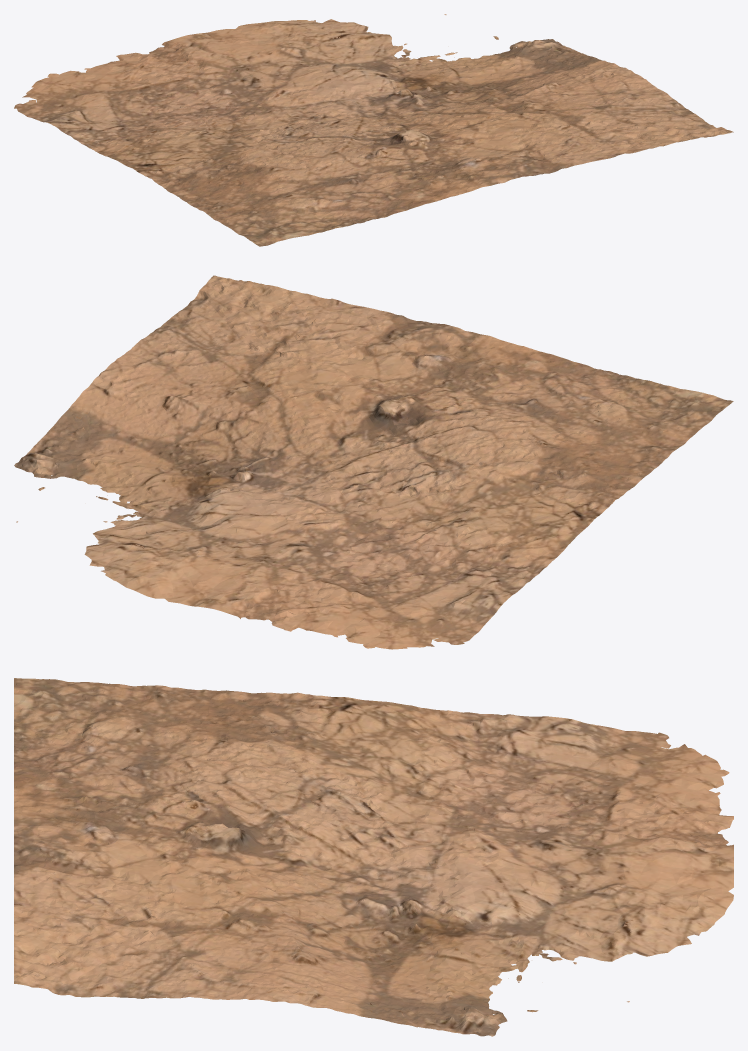
The picture shows the model from 3 angles, top to bottom: view 1: azimuth 30°, elevation 25°; view 2: azimuth 150°, elevation 25°; view 3: azimuth 270°, elevation 25°; orthographic projection. The views are drawn at different scales.
Size of the model in its own units: 1.04 by 0.1006 by 1.04.
2 materials, 2 textured.
